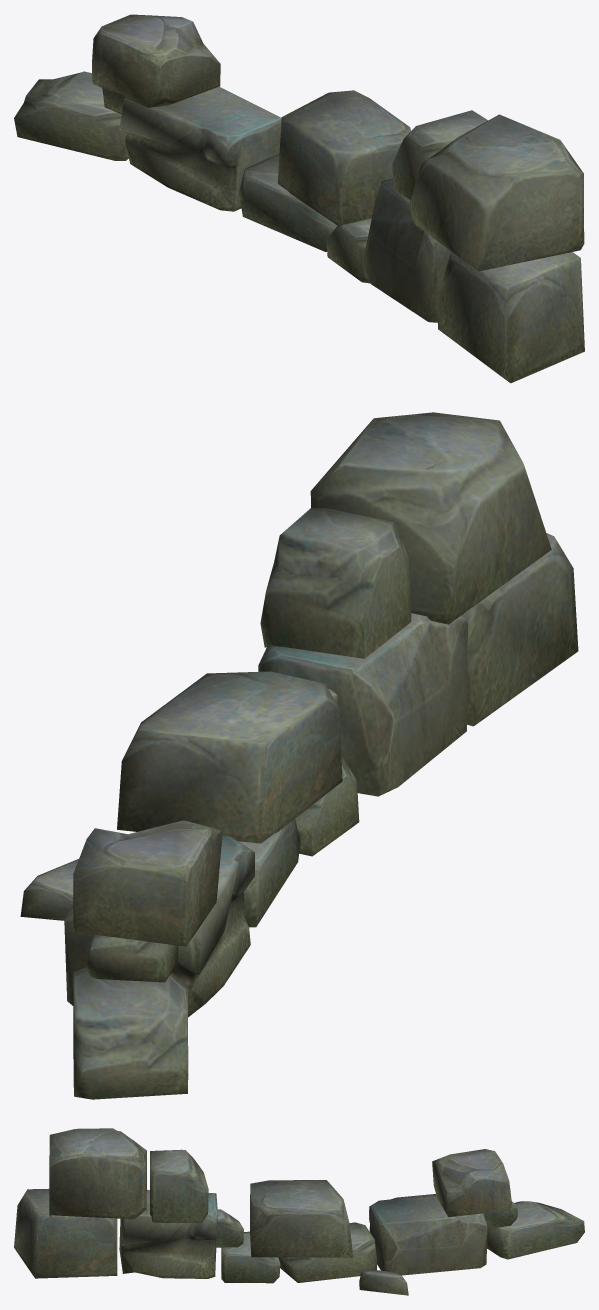
Rendered from wlf_shitou16_w.FBX.
3 renders of one model, top to bottom at view 1: azimuth 30°, elevation 25°; view 2: azimuth 150°, elevation 25°; view 3: azimuth 270°, elevation 25°, orthographic. The views are drawn at different scales.
Parts seen in each view (by area): view 1: wlf_shitou16_w; view 2: wlf_shitou16_w; view 3: wlf_shitou16_w.
Part boxes in pixels (left/top/right/bottom): wlf_shitou16_w: left=14, top=14, right=584, bottom=383; wlf_shitou16_w: left=20, top=412, right=578, bottom=1099; wlf_shitou16_w: left=14, top=1128, right=584, bottom=1295.
Size of the model in its own units: 31.52 by 26.42 by 101.
